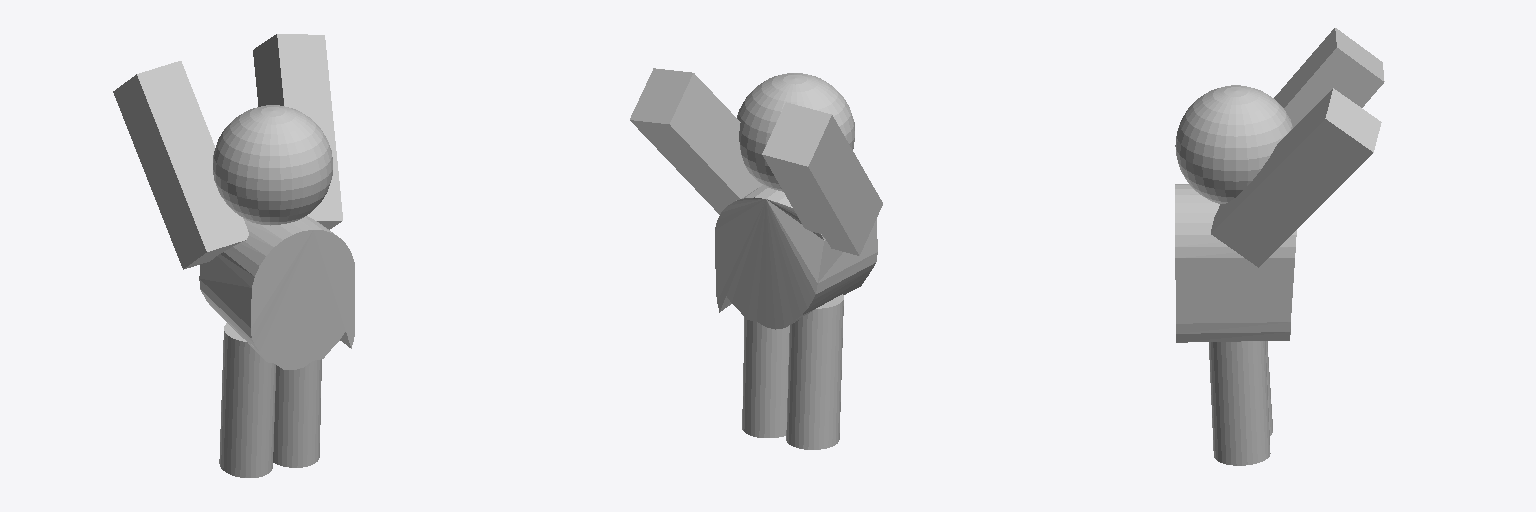
File: Figurine157.obj
3 renders of one model, left to right at view 1: azimuth 30°, elevation 25°; view 2: azimuth 150°, elevation 25°; view 3: azimuth 270°, elevation 25°, orthographic.
Visible parts, largest first — view 1: Cylinder; view 2: Cylinder; view 3: Cylinder.
Part boxes in pixels (bbox=[...]): Cylinder: bbox=[113, 34, 354, 477]; Cylinder: bbox=[630, 68, 882, 449]; Cylinder: bbox=[1175, 28, 1384, 465].
Size of the model in its own units: 3.49 by 6.96 by 3.45.